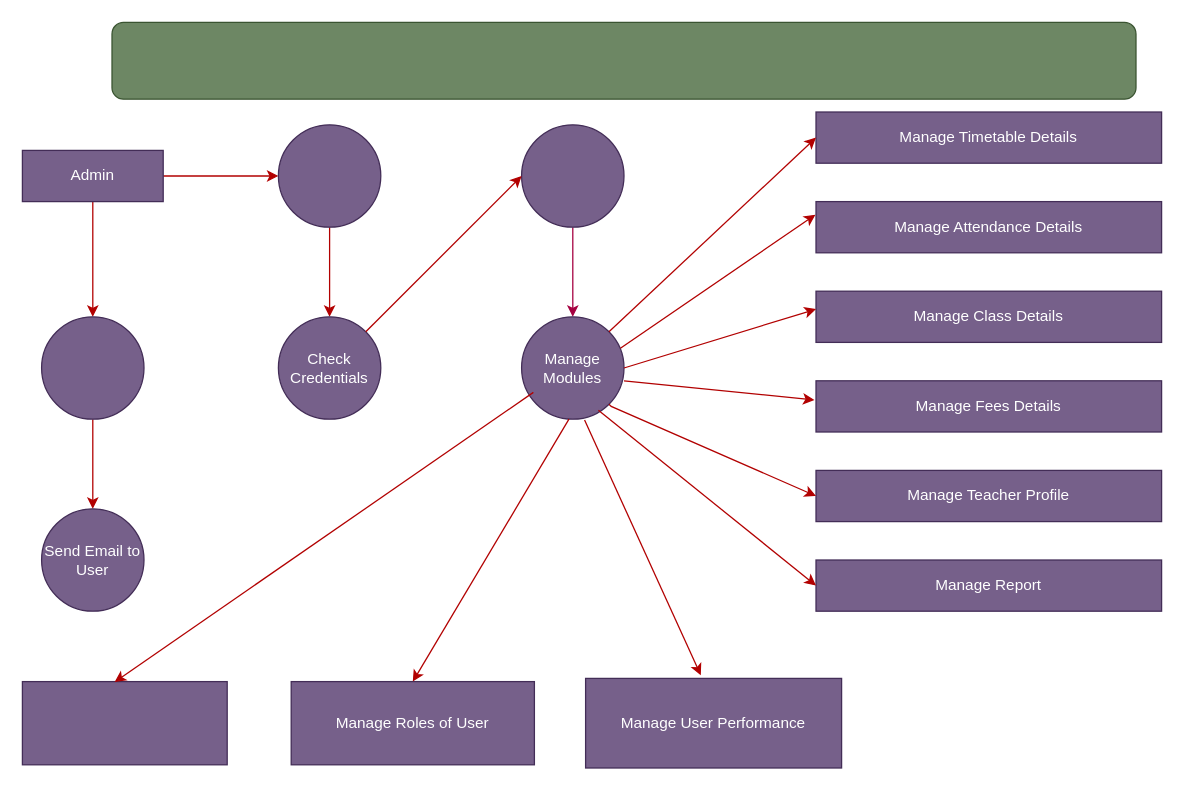
The diagram is 1184 pixels wide and 791 high, and some of its shapes have lost their labels. Here are the shapes that lost their labels. From the top down, the centre of each, then its label:
At pixel 623 60: "Student Information System".
At pixel 329 175: "Login to System".
At pixel 572 175: "Check Roles of Access".
At pixel 92 367: "Forget Password".
At pixel 124 722: "Manage System Admin".
